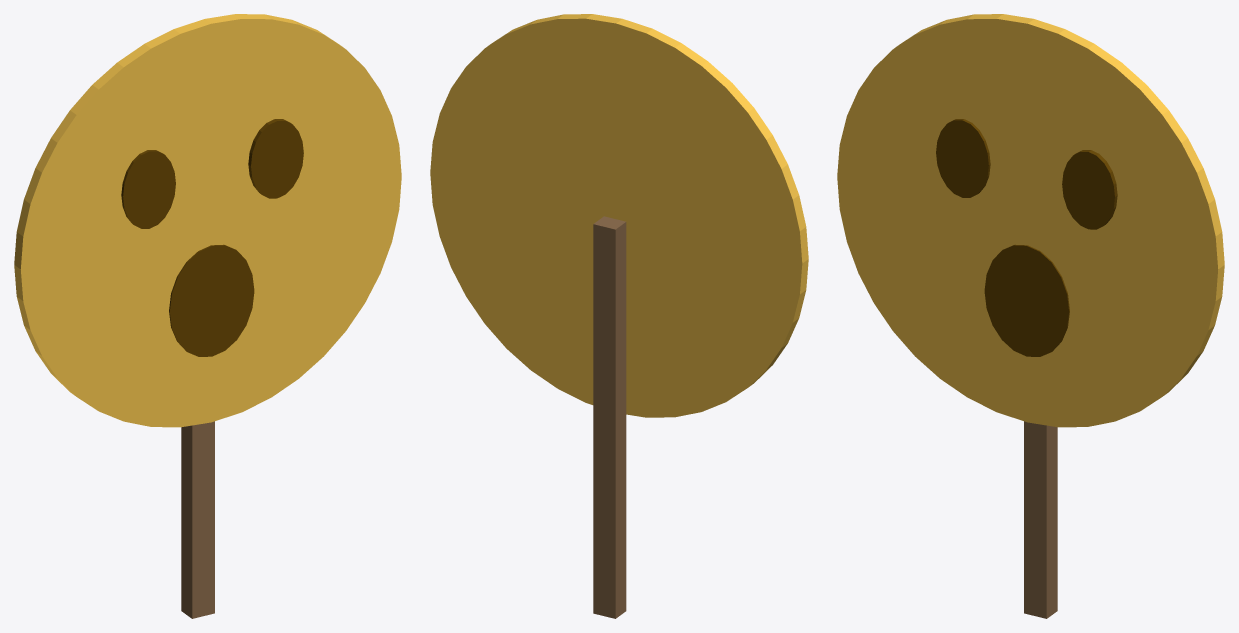
Rendered from etonnement.glb.
The picture shows the model from 3 angles, left to right: view 1: azimuth 30°, elevation 25°; view 2: azimuth 150°, elevation 25°; view 3: azimuth 330°, elevation 25°; orthographic projection. The views are drawn at different scales.
Size of the model in its own units: 1 by 1.5 by 0.097.
